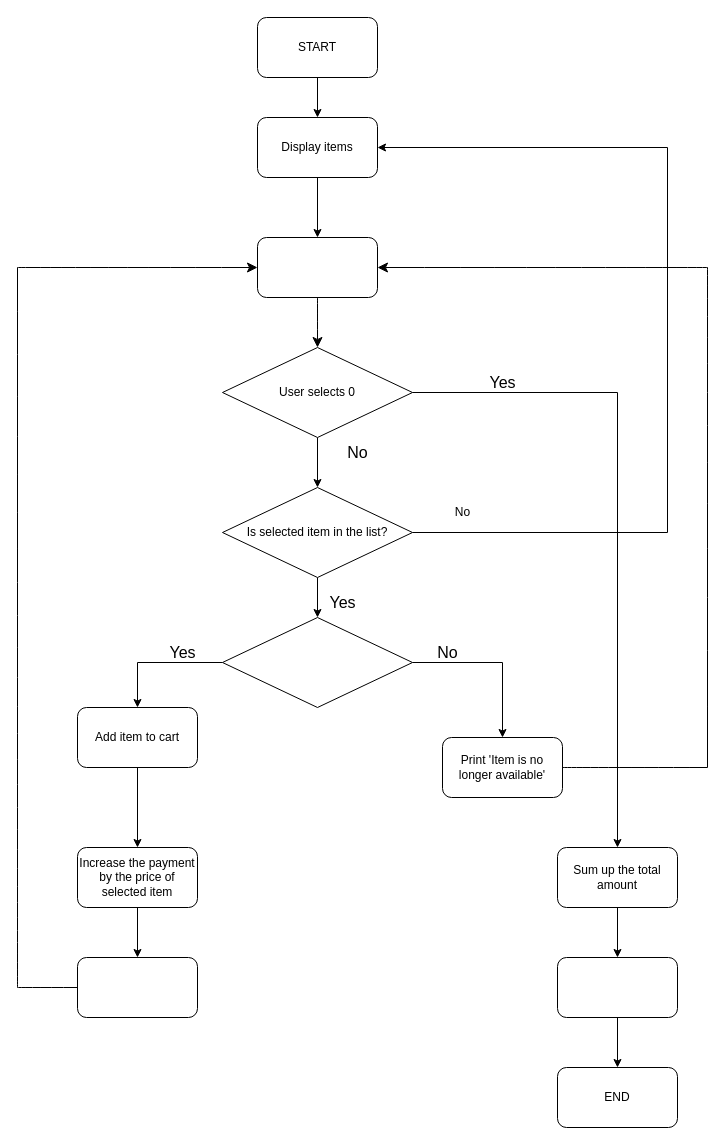
This 726x1145 diagram has some shape labels left out. Each missing label, with the centre of its shape:
"Ask user for an option" belongs at (x=317, y=267).
"Check if selected item is still available" belongs at (x=317, y=662).
"Decrease quantity by 1" belongs at (x=137, y=987).
"Display the total amount" belongs at (x=617, y=987).
